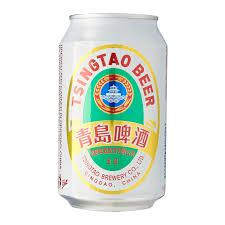beer: (59, 12, 169, 213)
